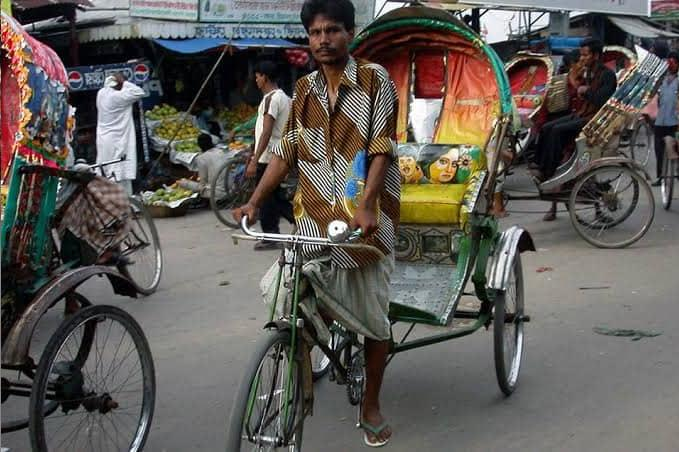Rickshaw: (247, 7, 532, 450), (0, 3, 151, 445), (553, 34, 674, 256), (493, 38, 559, 181), (590, 36, 633, 99)
